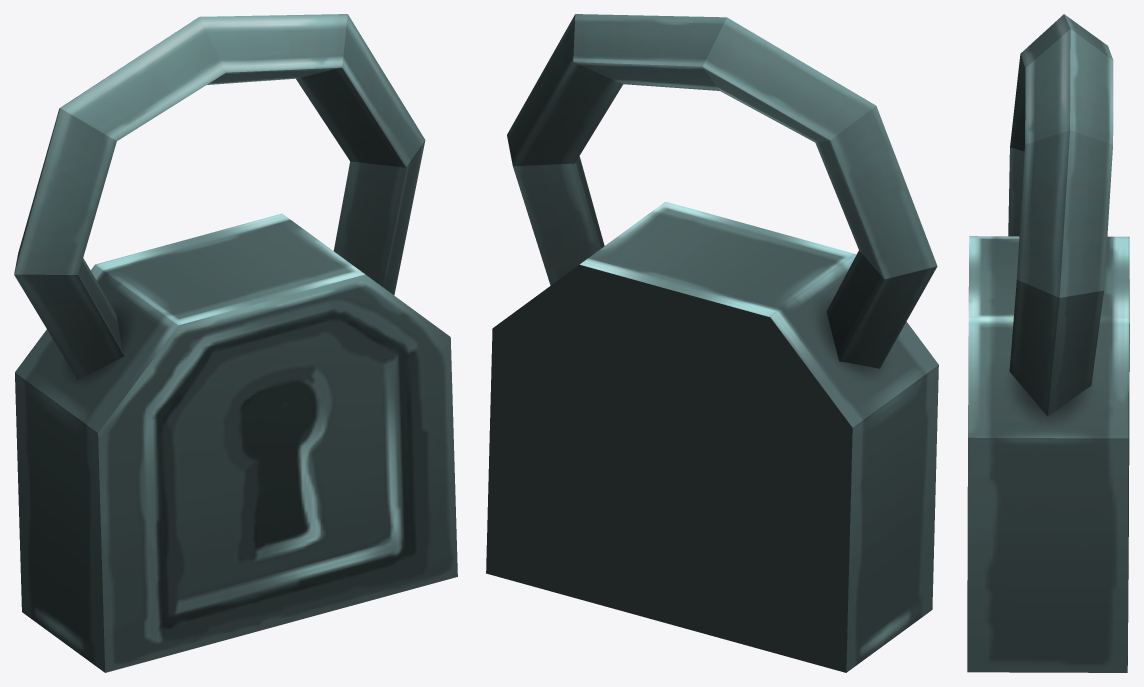
The model's file is lock.fbx.
3 renders of one model, left to right at view 1: azimuth 30°, elevation 25°; view 2: azimuth 150°, elevation 25°; view 3: azimuth 270°, elevation 25°, orthographic. The views are drawn at different scales.
Visible parts, largest first — view 1: lock; view 2: lock; view 3: lock.
Part boxes in pixels (box(x1,y1,x2,y2)): lock: box(14, 14, 457, 672); lock: box(486, 14, 938, 672); lock: box(967, 14, 1129, 672).
Size of the model in its own units: 1.01 by 1.35 by 0.3564.
